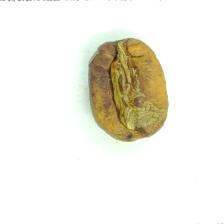NG: (94, 39, 163, 139)
